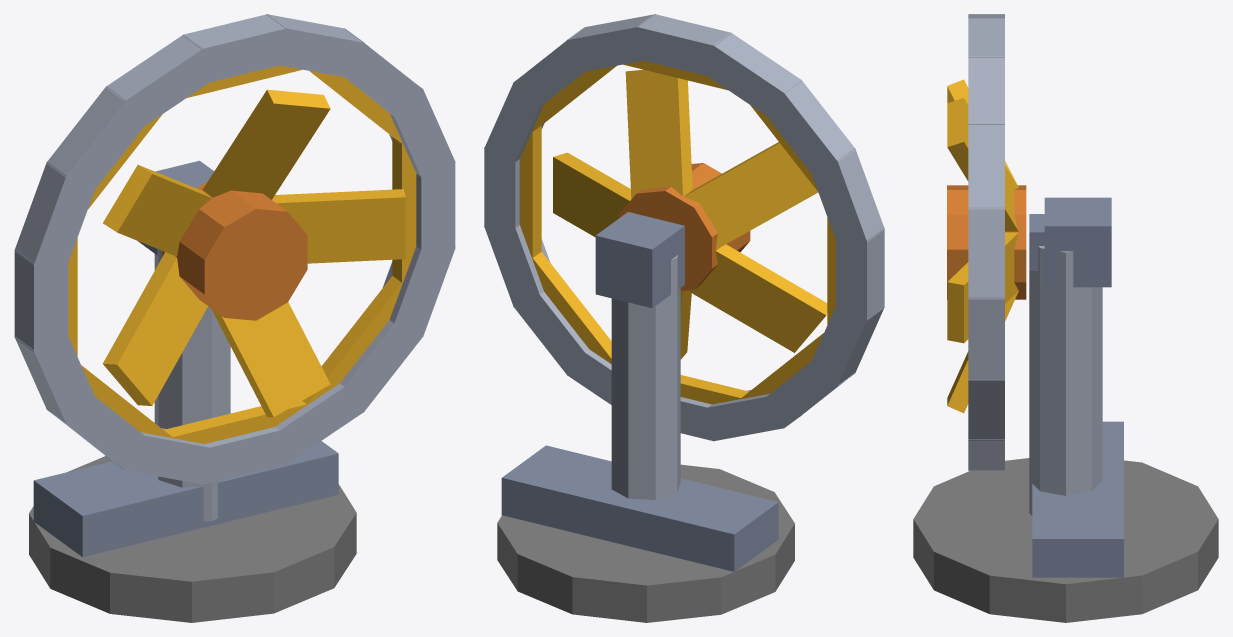
File: fan_strong.glb
3 renders of one model, left to right at view 1: azimuth 30°, elevation 25°; view 2: azimuth 150°, elevation 25°; view 3: azimuth 270°, elevation 25°, orthographic. The views are drawn at different scales.
Parts seen in each view (by area): view 1: fan_strong; view 2: fan_strong; view 3: fan_strong.
Boxes of the visible parts, left/top/right/bottom form: fan_strong: left=14, top=14, right=455, bottom=622; fan_strong: left=484, top=14, right=884, bottom=622; fan_strong: left=913, top=14, right=1218, bottom=622.
Size of the model in its own units: 1.5 by 1.88 by 1.
